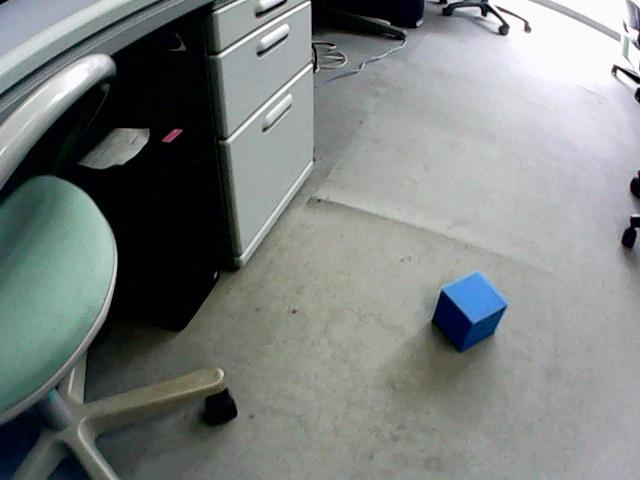blue_block: (433, 272, 507, 350)
